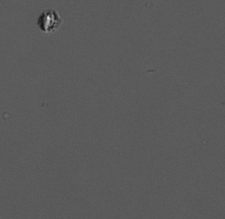Living Cell: (36, 8, 62, 33)
